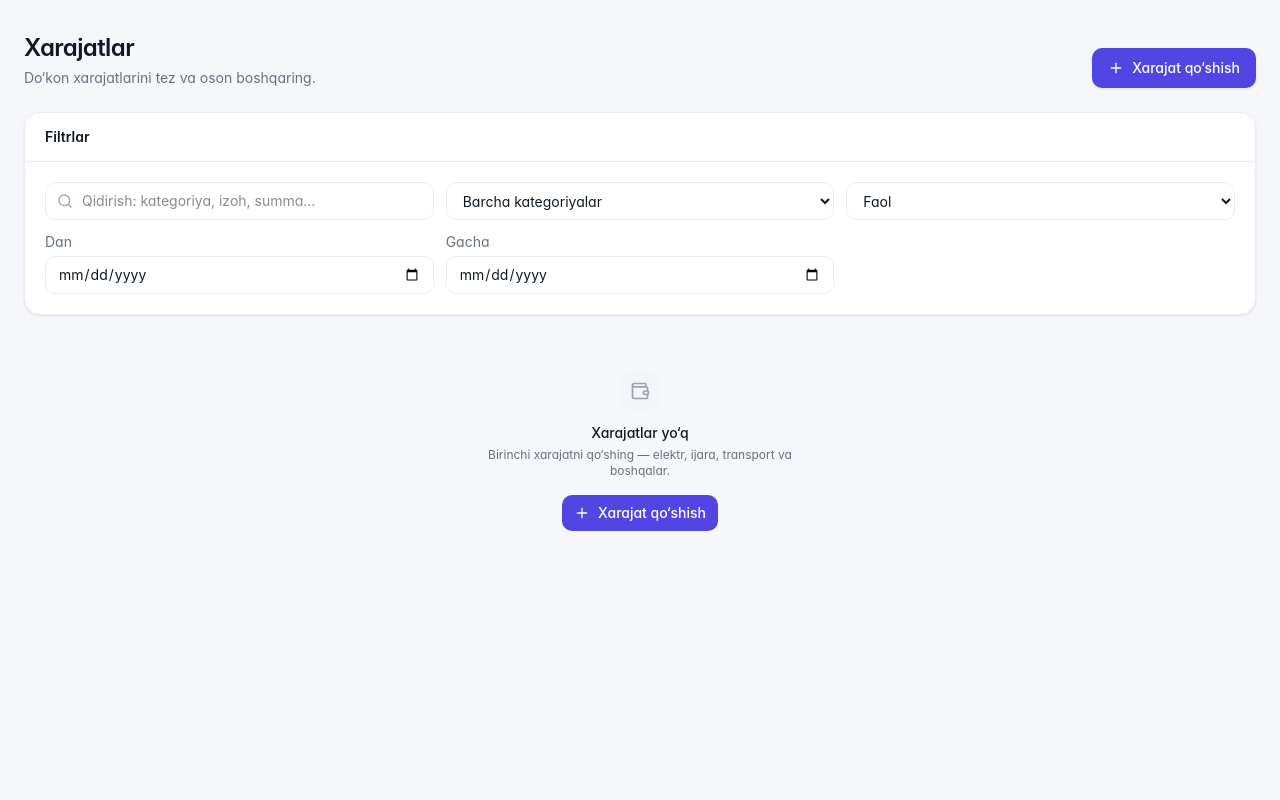
ExpensesPage › rejects zero amount after category is chosen
Click the 1st button "Xarajat qo‘shish": click(1174, 68) x1=1092 y1=48 x2=1256 y2=88
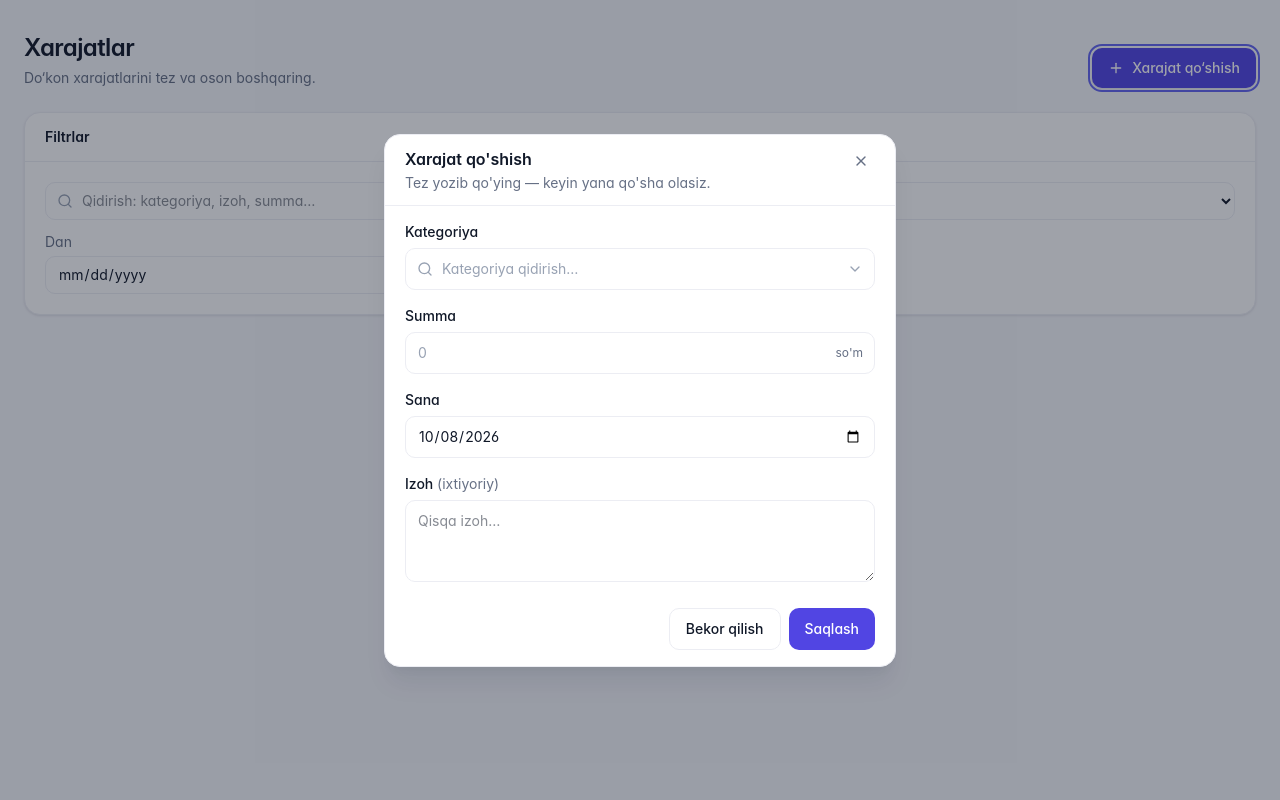
Click the dropdown labelled "Kategoriya": click(640, 268) x1=405 y1=248 x2=875 y2=290
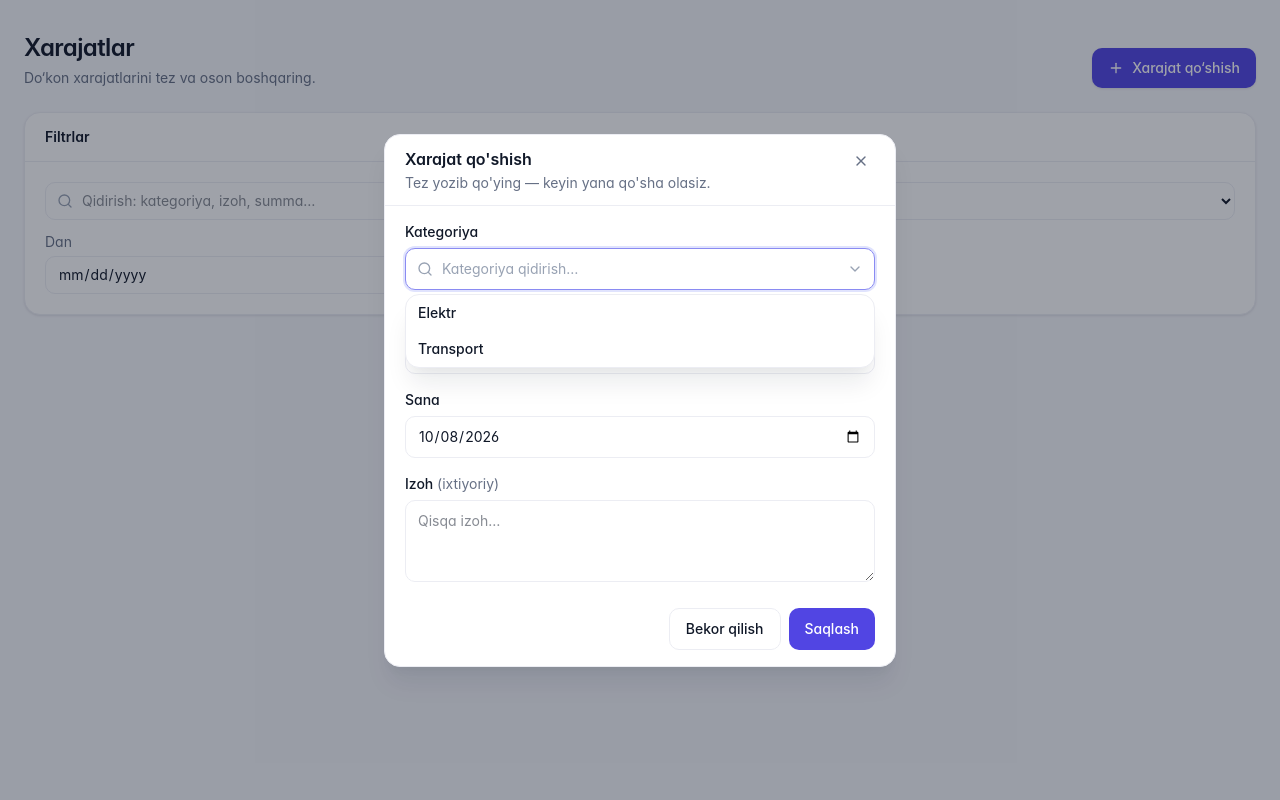
Click the button "Elektr": click(437, 312) x1=406 y1=294 x2=874 y2=330
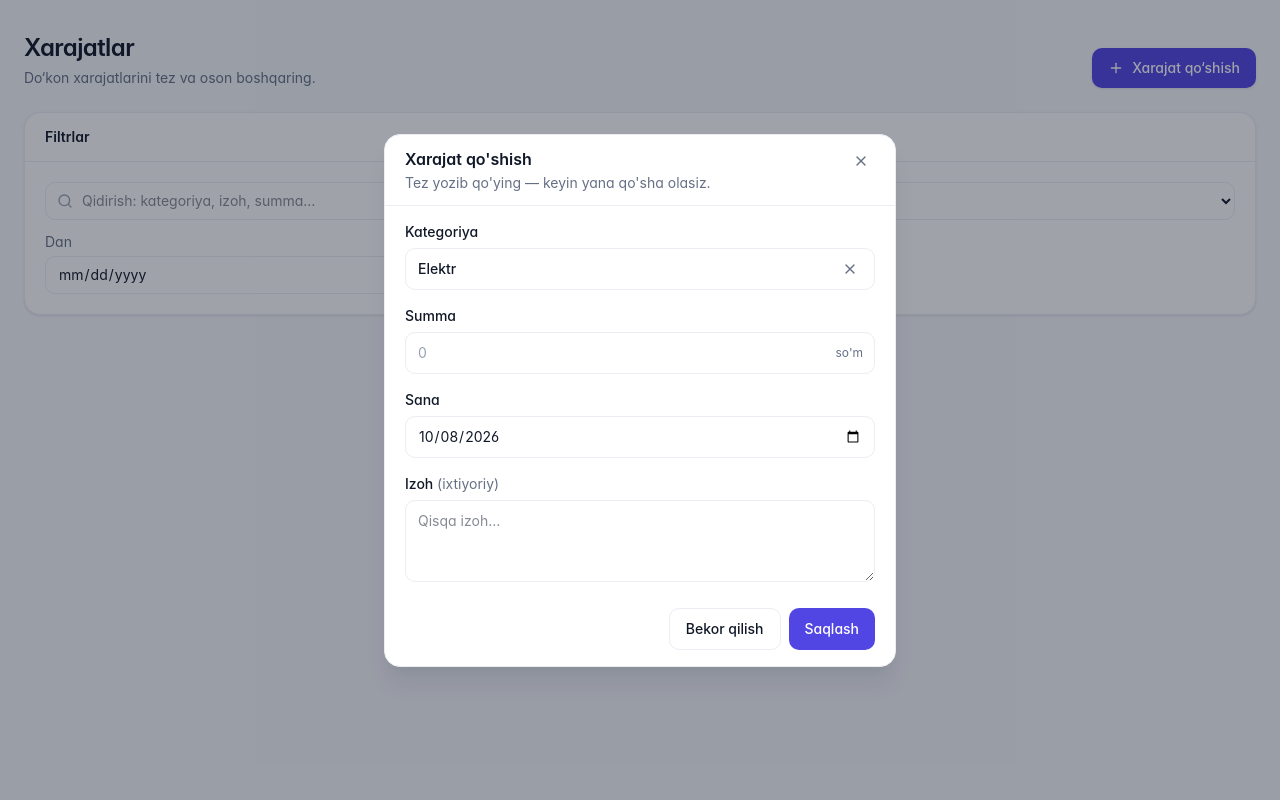
Click the button "Saqlash": click(832, 628) x1=788 y1=608 x2=875 y2=650
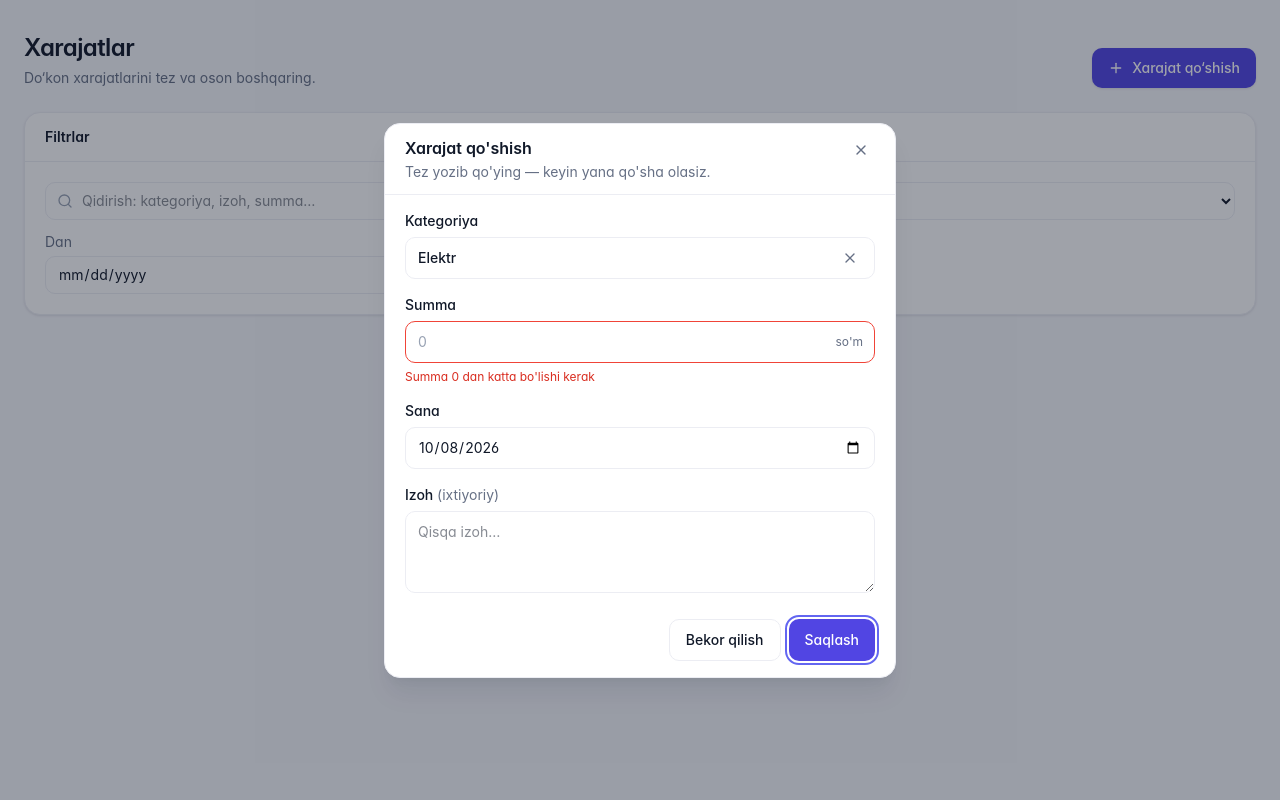
Now the text "Summa 0 dan katta bo'lishi kerak" is shown, box x1=405 y1=368 x2=595 y2=384
